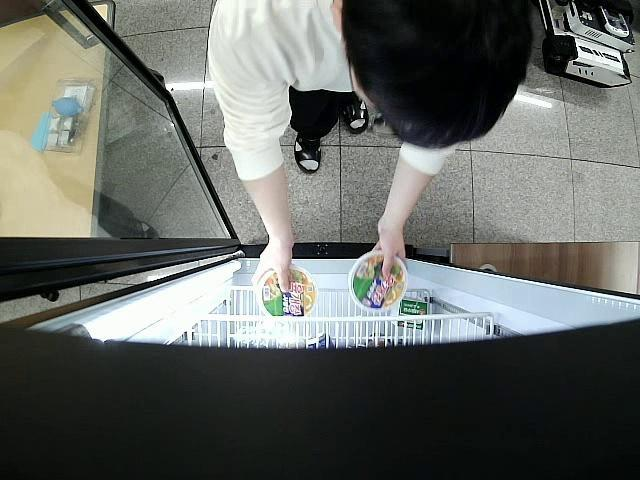09_yukGaeJang: (348, 252, 407, 312), (256, 266, 318, 319)
